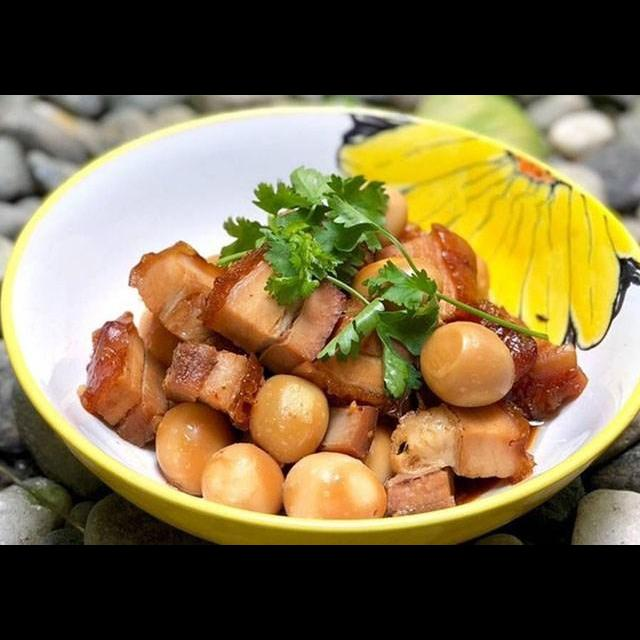thit heo quay: (194, 241, 432, 423), (76, 308, 190, 452), (384, 386, 541, 490), (349, 219, 487, 332), (122, 235, 250, 353), (153, 332, 270, 434)
trung: (420, 317, 518, 410), (152, 396, 237, 502), (245, 368, 332, 466), (279, 448, 391, 524), (197, 437, 286, 519), (347, 253, 447, 324)
